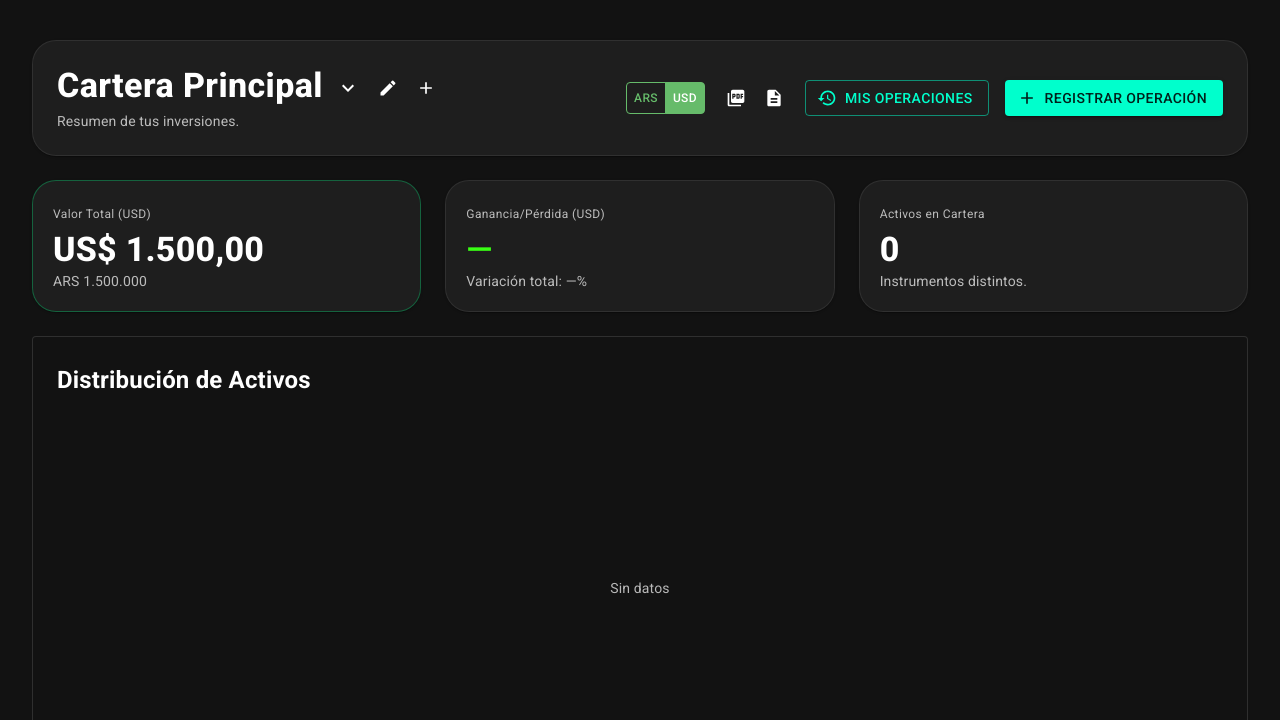
it: PortfolioManagement Integration › should allow creating and editing a portfolio
Expected: the heading "Cartera Principal" is shown, x1=57 y1=65 x2=323 y2=107
Note: Create Portfolio
Click the button named "Nuevo portafolio": {"x": 426, "y": 88} x1=411 y1=73 x2=441 y2=103
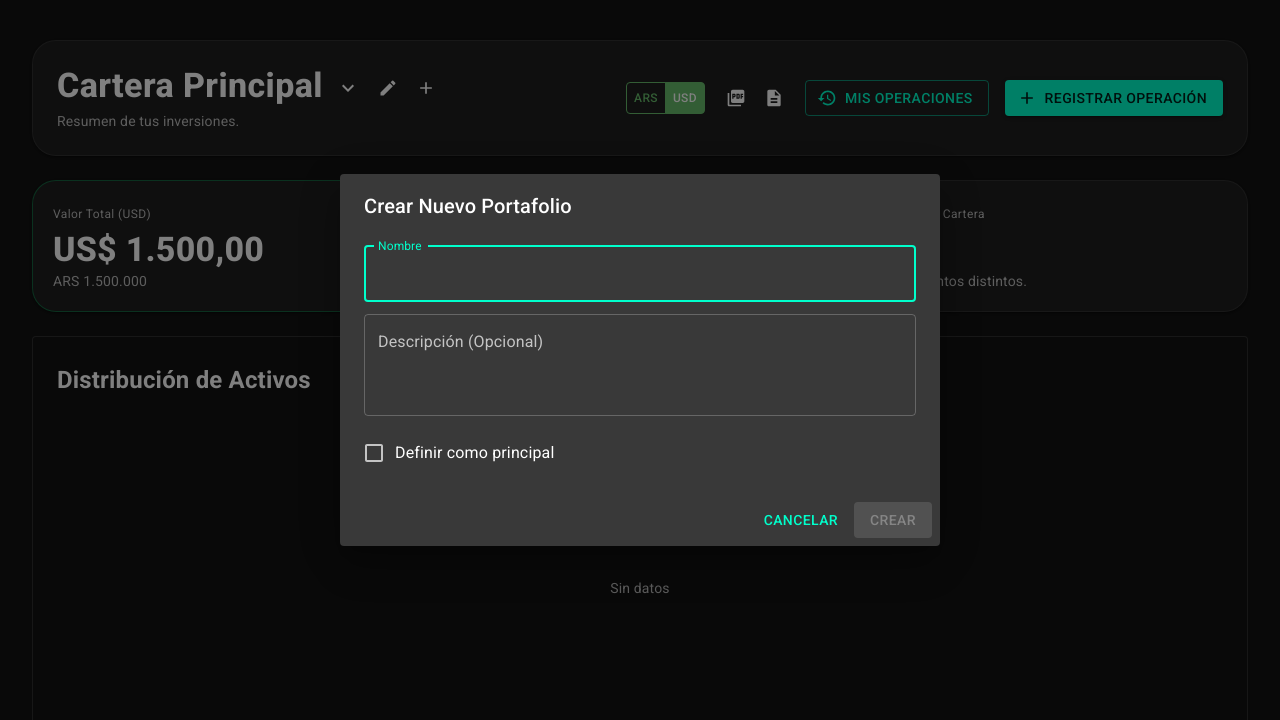
In the field labelled "Nombre": {"x": 640, "y": 274} x1=364 y1=246 x2=916 y2=302, type "Nueva Cartera"
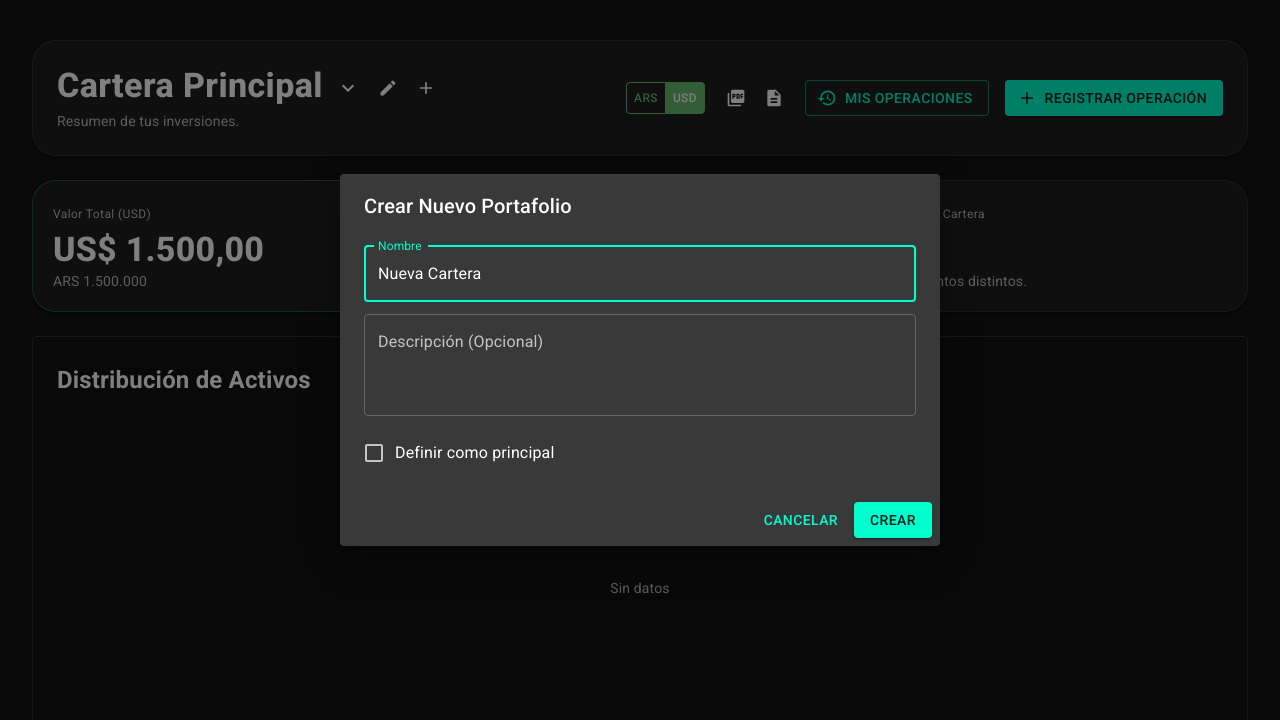
Click the button with aria-label "Crear portafolio": {"x": 893, "y": 520} x1=854 y1=502 x2=932 y2=538
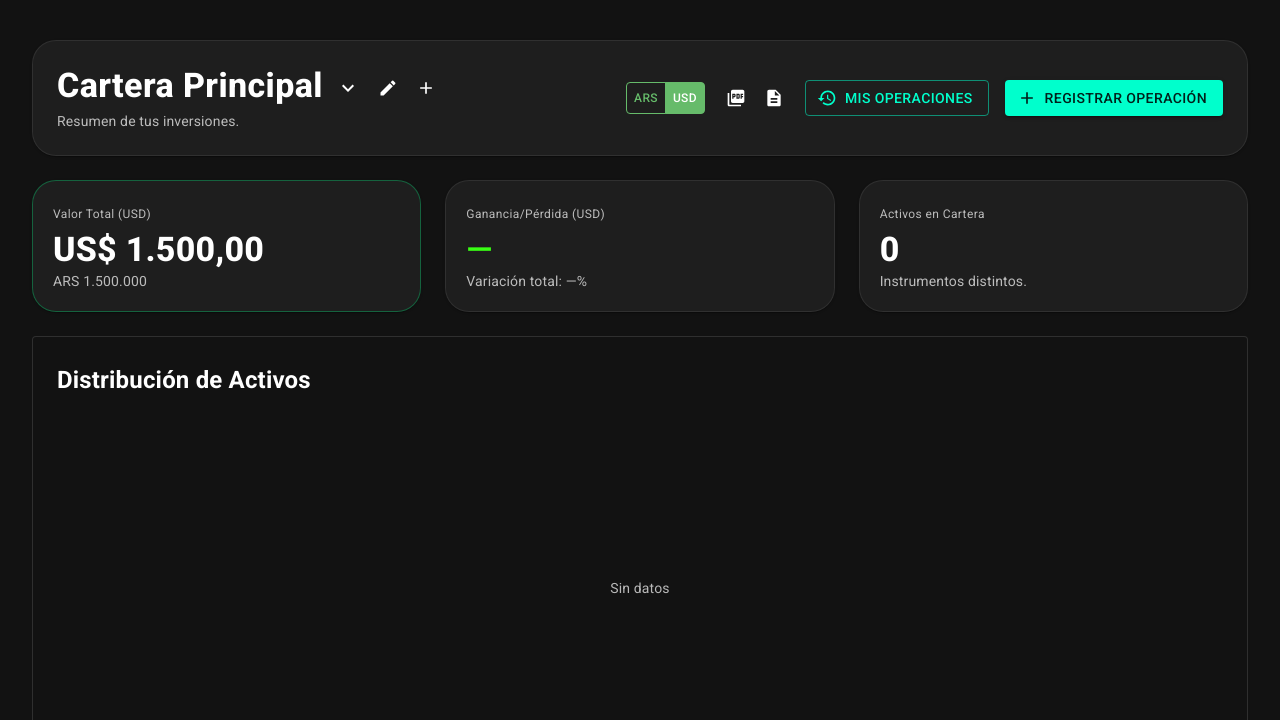
Expected: the dialog is gone
Note: Edit Portfolio
Click the button named "Editar portafolio": {"x": 388, "y": 88} x1=373 y1=73 x2=403 y2=103
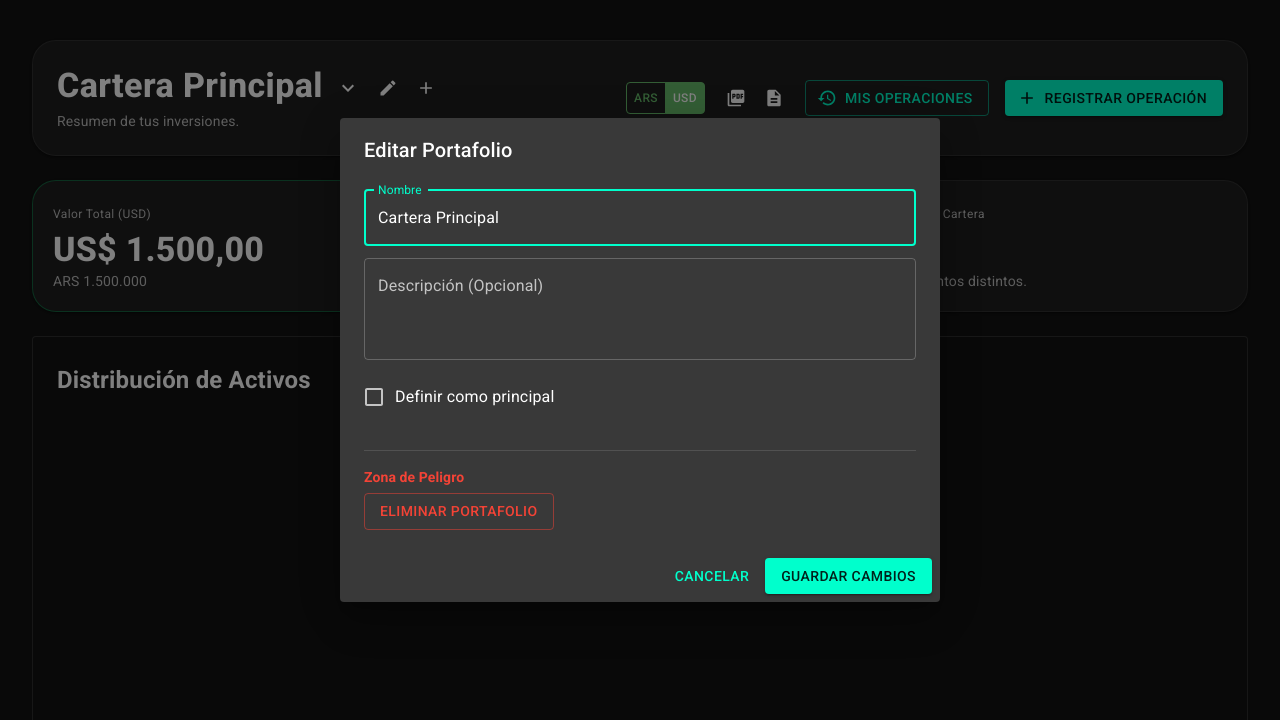
Replace the text in the field labelled "Nombre" with "Cartera Editada": {"x": 640, "y": 218} x1=364 y1=190 x2=916 y2=246
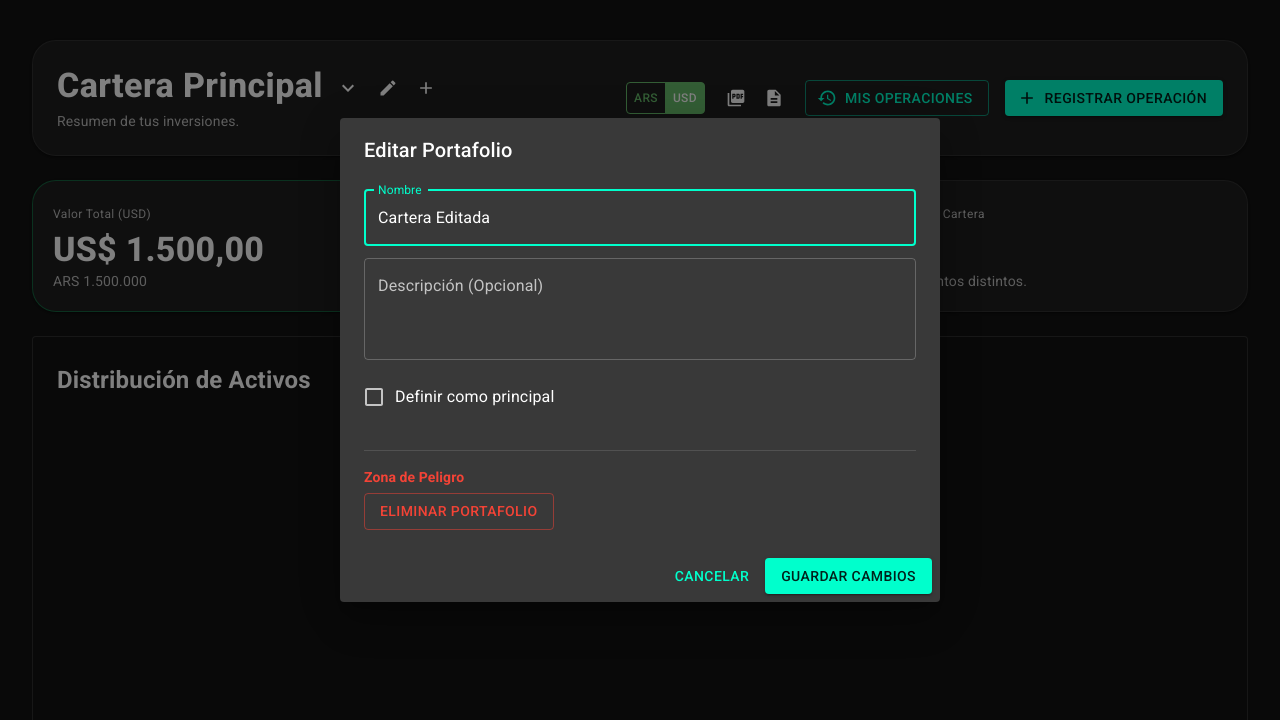
Click the button "Guardar Cambios": {"x": 849, "y": 576} x1=765 y1=558 x2=932 y2=594
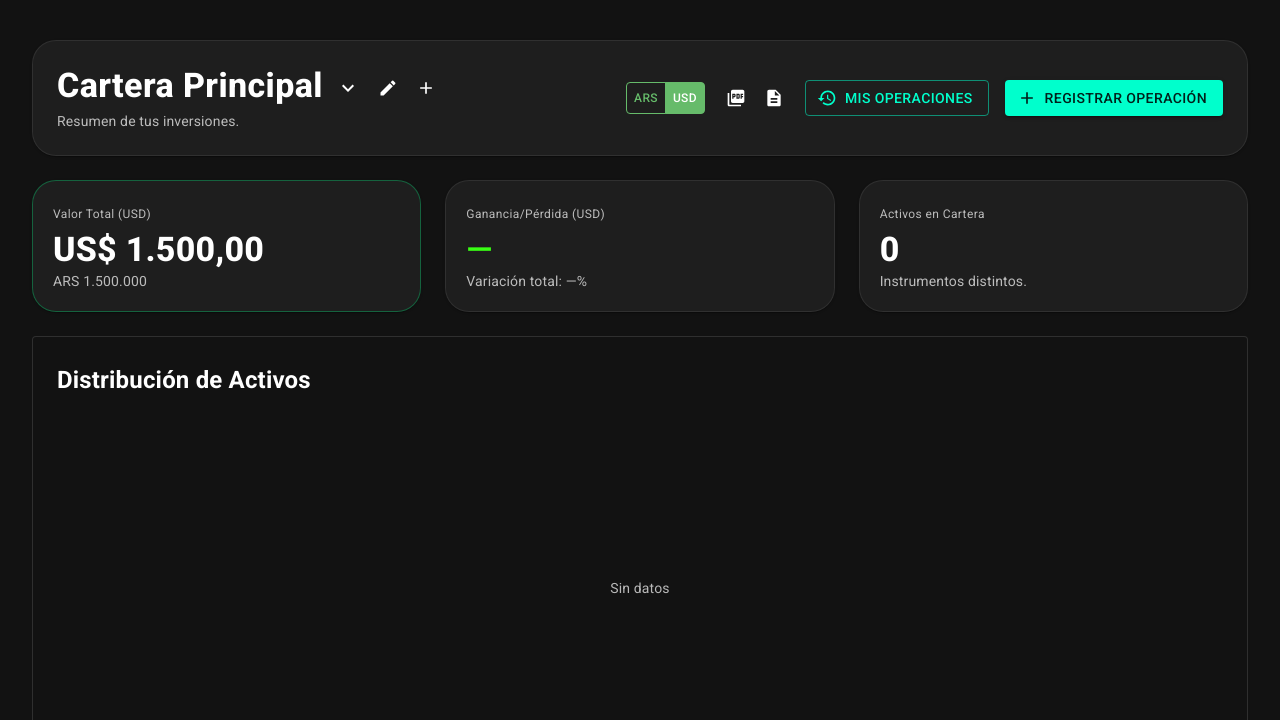
Expected: the dialog is gone
